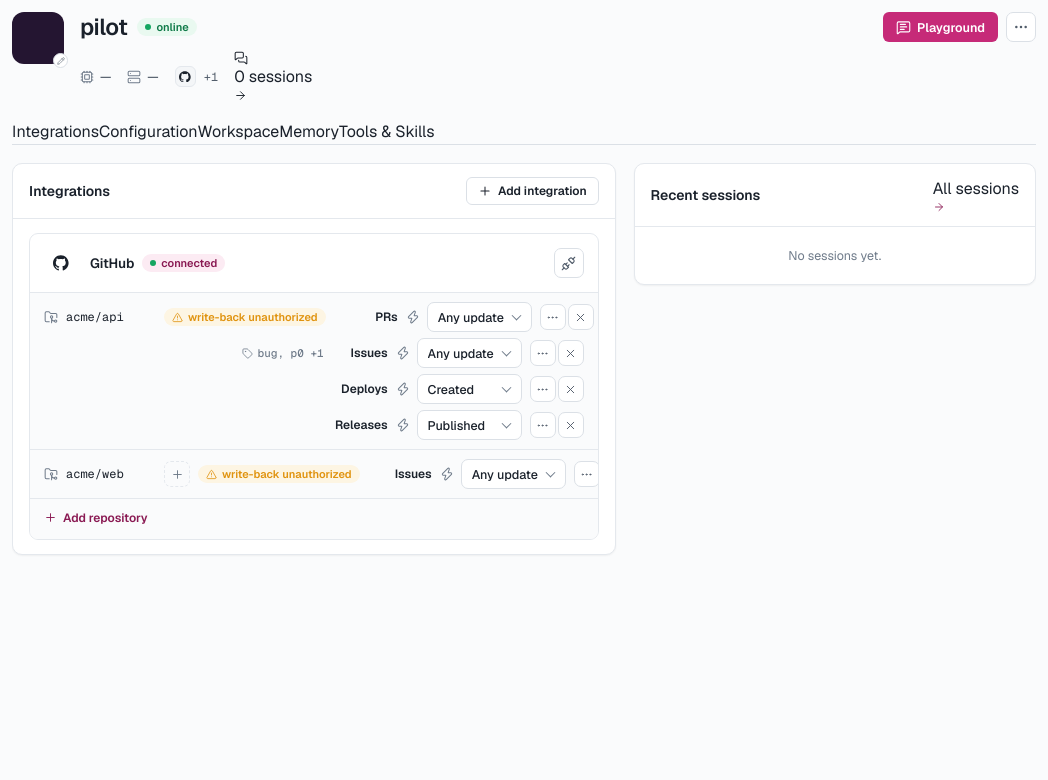
it: AgentDetailView, code-host repository blocks › names a deployment row by its own cadences, at rest and in its menu
Click the button with aria-label "Trigger for acme/api Deploys" at (469, 389), box x1=417 y1=374 x2=522 y2=404
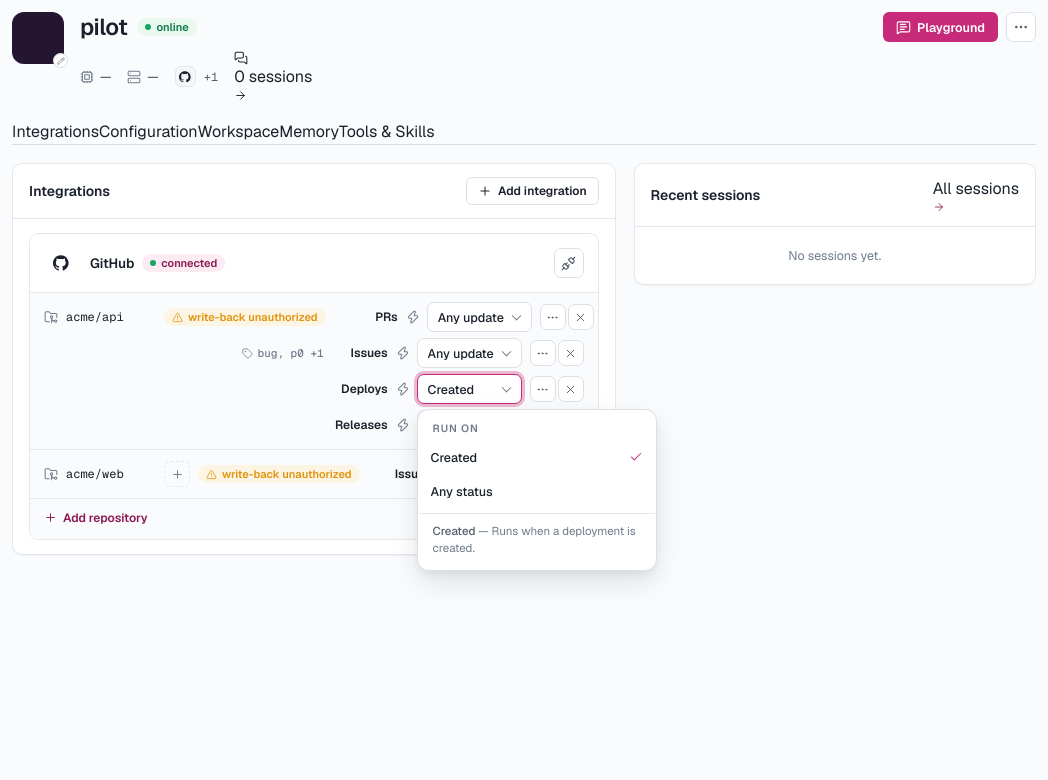
Check: the menu item with class "fopt" showing "Created" is shown, box x1=423 y1=440 x2=651 y2=474
Check: the menu item with class "fopt" showing "Any status" is shown, box x1=423 y1=474 x2=651 y2=508
